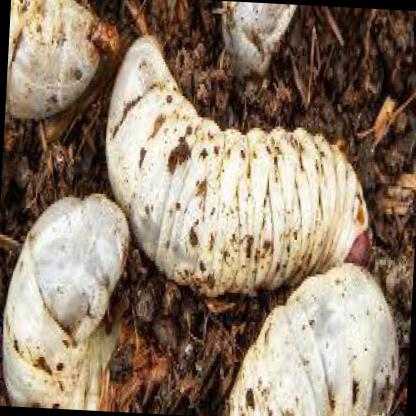root grubs: (106, 34, 372, 302)
